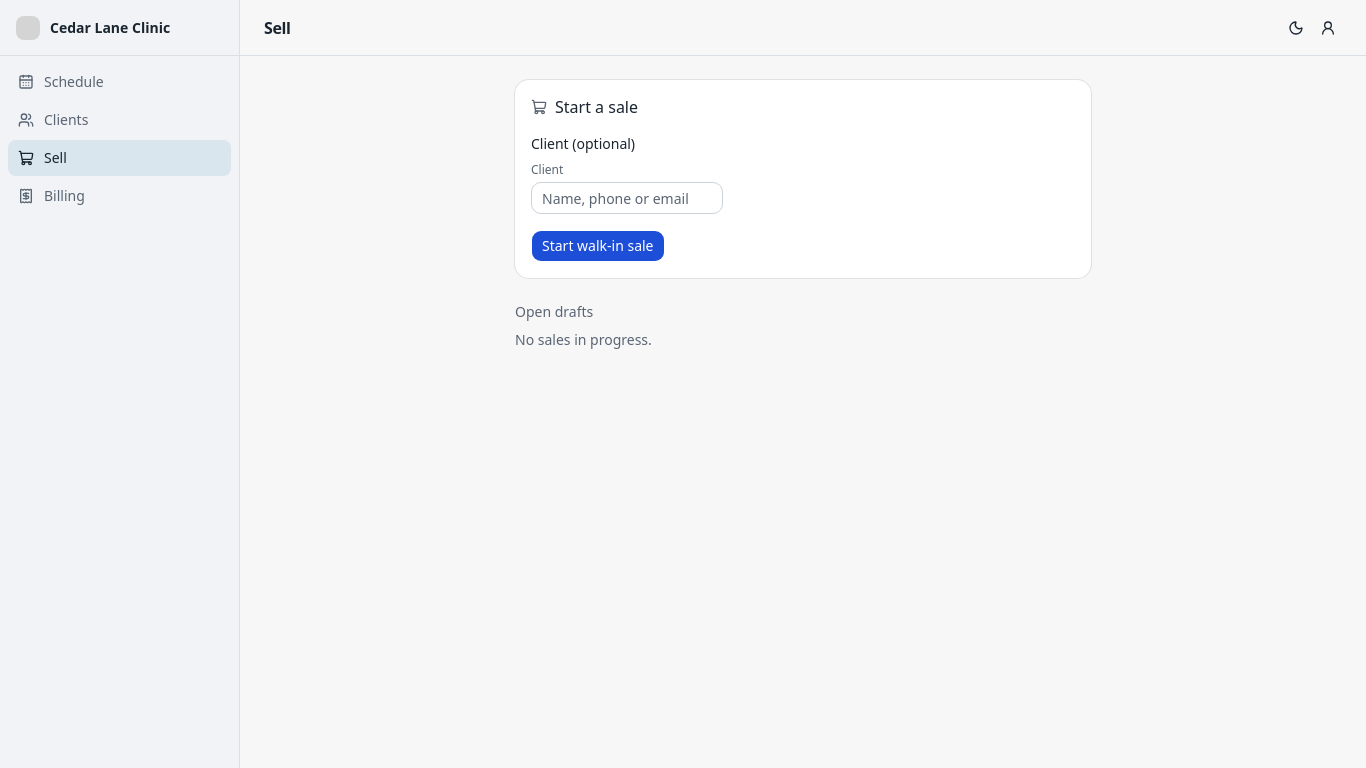
Test: applying an eligible discount recomputes the total live
Click the button "Start walk-in sale".
click(598, 246)  # box [531,230,664,262]
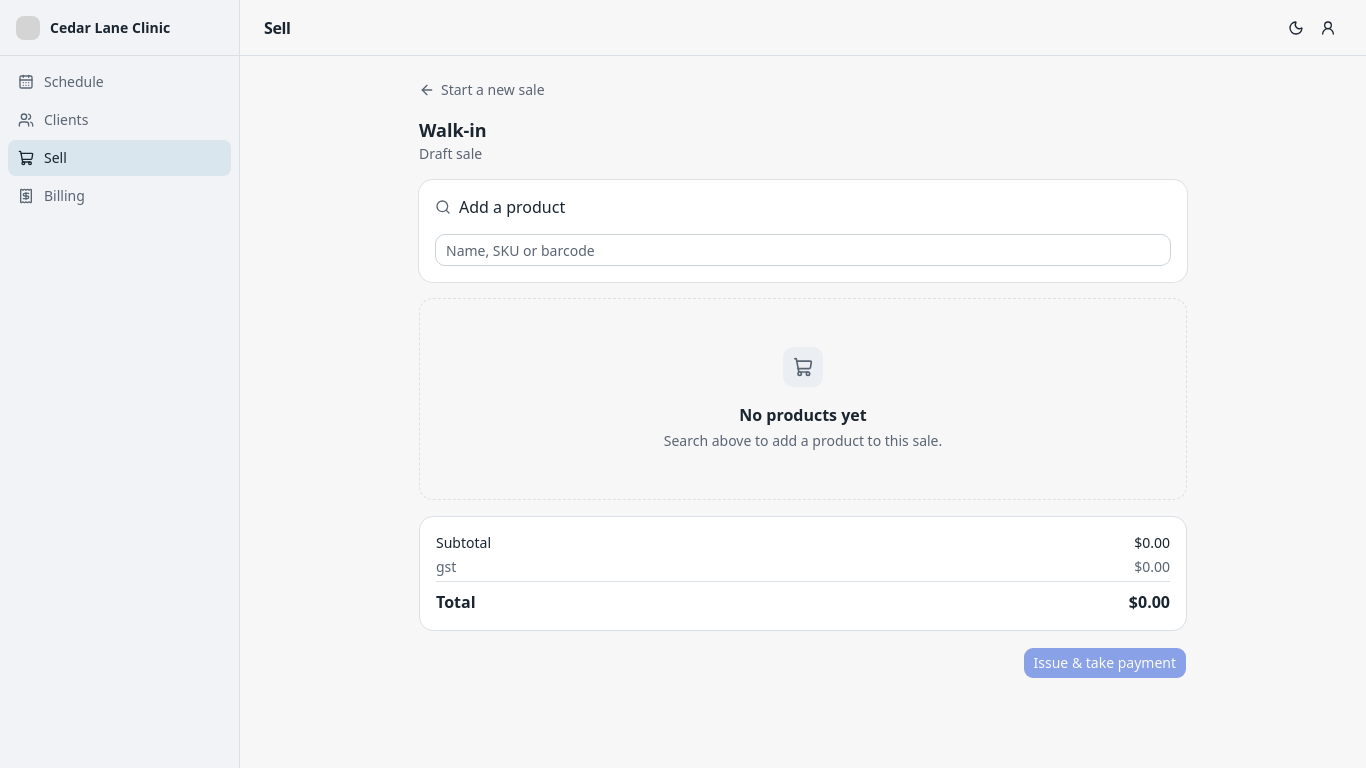
Type "Shampoo" into the field named "Search products".
click(803, 250); type("Shampoo")  # box [435,234,1171,266]
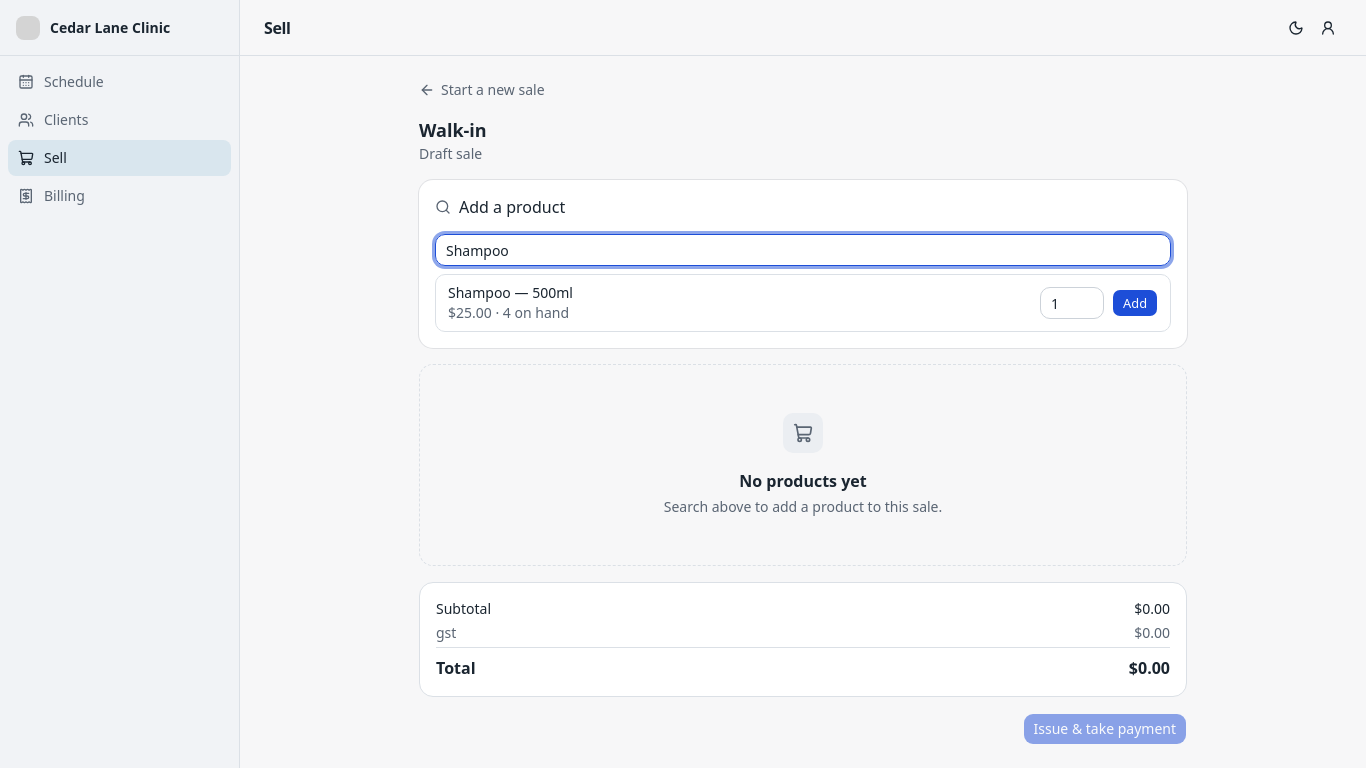
Click the button "Add".
click(1135, 303)  # box [1112,289,1158,317]
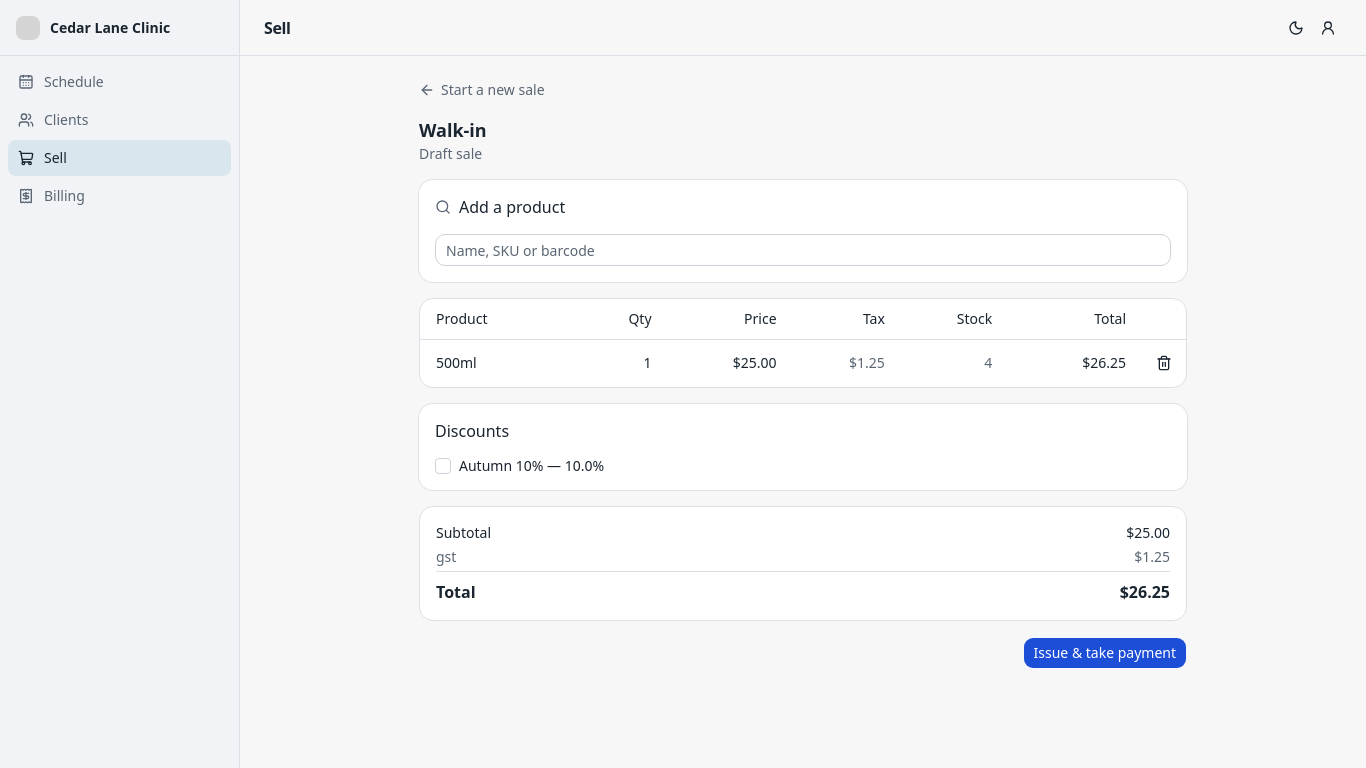
Click the checkbox named "Autumn 10%".
click(443, 466)  # box [435,458,451,474]
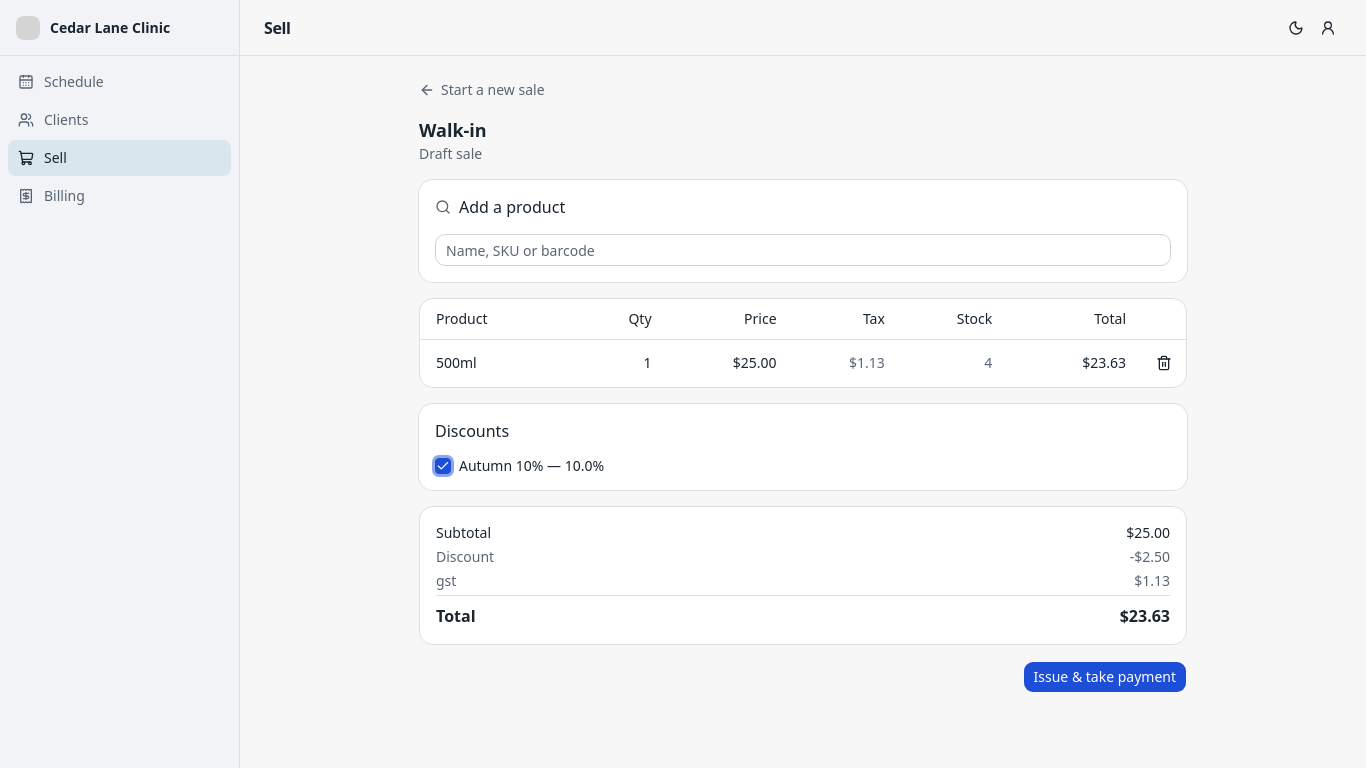
Expected: the checkbox named "Autumn 10%" is checked, [435,458,451,474]
Expected: the text "-$2.50" is shown, [1130,547,1170,567]
